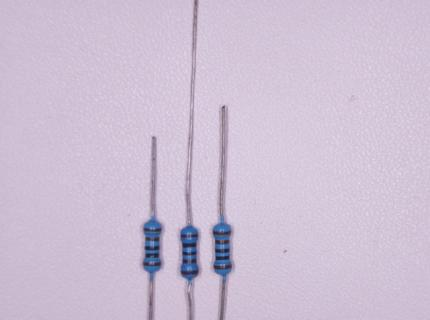Black band: (145, 246, 160, 250), (145, 253, 159, 257), (182, 243, 196, 247), (216, 249, 229, 253), (216, 256, 229, 260), (182, 252, 197, 255)
Brown band: (214, 264, 233, 269), (143, 261, 161, 266), (213, 230, 231, 235), (181, 270, 198, 275), (181, 234, 198, 238), (215, 240, 230, 244), (182, 259, 196, 263), (146, 237, 159, 241), (144, 228, 161, 231)
